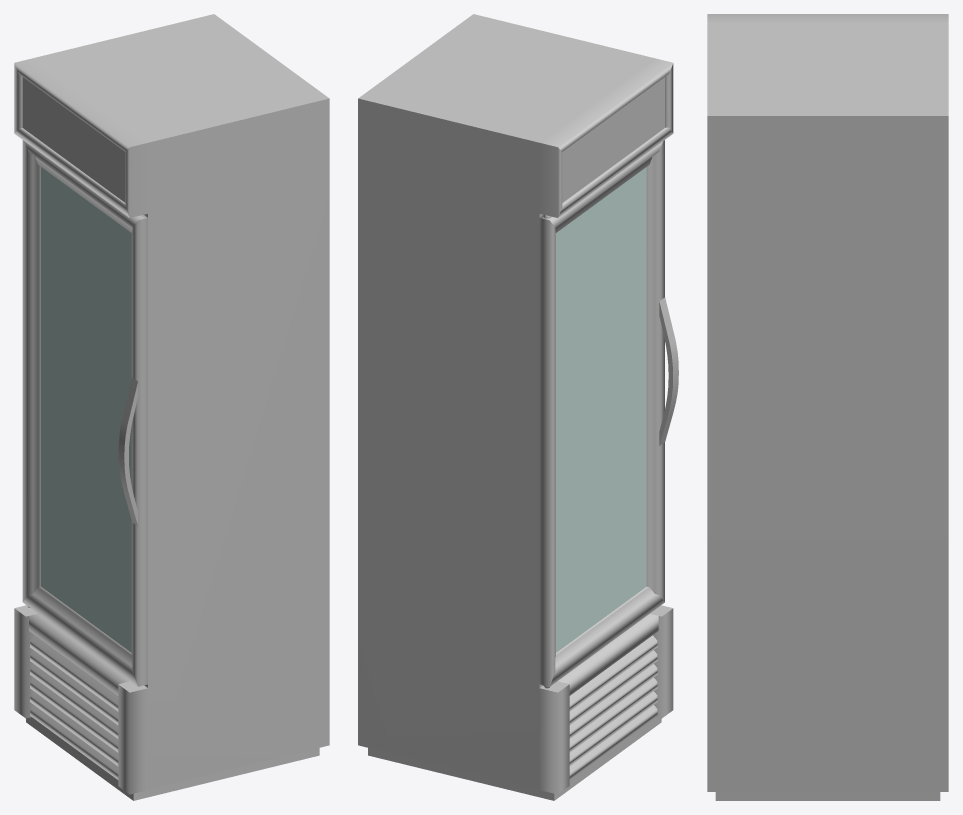
Rendered from SM_Freezer.fbx.
3 renders of one model, left to right at view 1: azimuth 30°, elevation 25°; view 2: azimuth 150°, elevation 25°; view 3: azimuth 270°, elevation 25°, orthographic. The views are drawn at different scales.
Visible parts, largest first — view 1: SM_Freezer; view 2: SM_Freezer; view 3: SM_Freezer.
Part boxes in pixels (x1,y1,x2,y2): SM_Freezer: (14, 14, 329, 800); SM_Freezer: (358, 14, 678, 800); SM_Freezer: (707, 14, 948, 800).
Bounding box in the file's own units: 82.16 × 80.03 × 252.
Materials: 2 (1 with a texture image).
